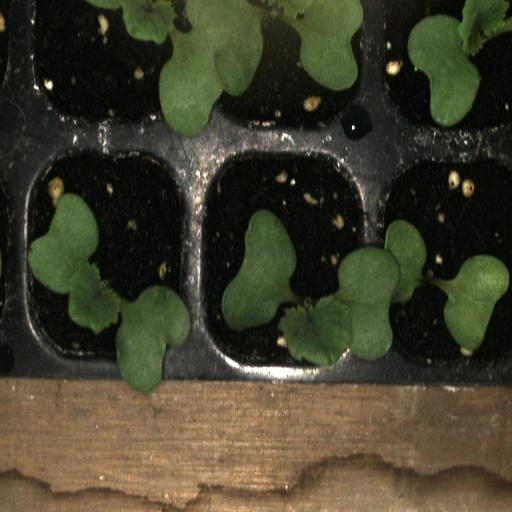Folha: (88, 0, 380, 140), (438, 255, 512, 352)
Germinacao: (194, 147, 370, 376), (16, 143, 192, 365), (372, 147, 510, 377), (372, 0, 512, 142)
